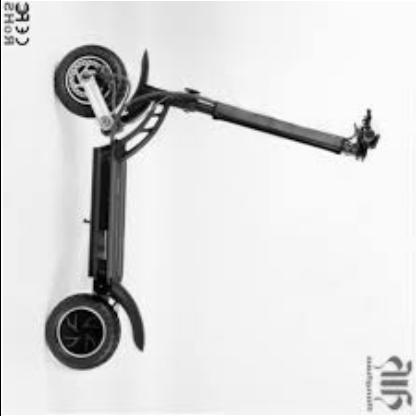bike: (46, 44, 386, 380), (64, 46, 381, 165)
